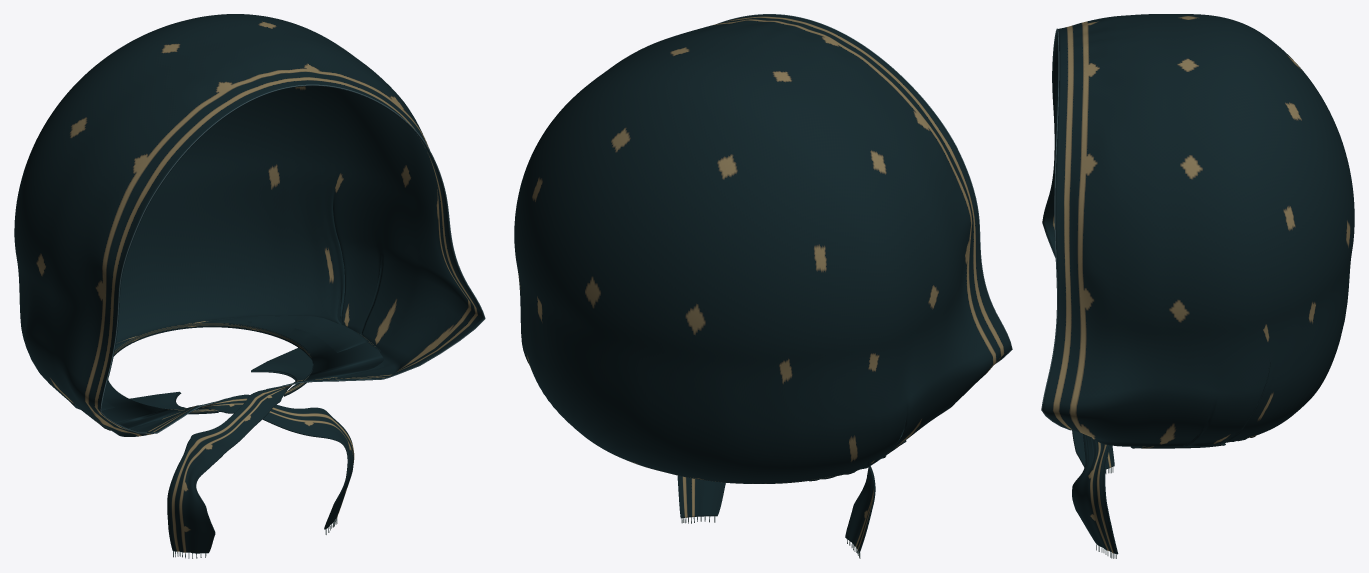
File: Feminine-straight-open-pashmina250-headgear.glb
3 views of the same model, side by side, from view 1: azimuth 30°, elevation 25°; view 2: azimuth 150°, elevation 25°; view 3: azimuth 270°, elevation 25° (orthographic). The views are drawn at different scales.
Parts seen in each view (by area): view 1: 226 headgear / Headwear / continuous woven pashmina239, 226 headgear / Headwear / face edge239; view 2: 226 headgear / Headwear / continuous woven pashmina239, 226 headgear / Headwear / face edge239; view 3: 226 headgear / Headwear / continuous woven pashmina239, 226 headgear / Headwear / face edge239.
Part boxes in pixels (x1,y1,x2,y2): 226 headgear / Headwear / continuous woven pashmina239: (14, 14, 484, 553); 226 headgear / Headwear / face edge239: (100, 84, 485, 433); 226 headgear / Headwear / continuous woven pashmina239: (514, 14, 1011, 552); 226 headgear / Headwear / face edge239: (717, 14, 1012, 363); 226 headgear / Headwear / continuous woven pashmina239: (1042, 14, 1354, 554); 226 headgear / Headwear / face edge239: (1041, 28, 1072, 430).
Bounding box in the file's own units: 1.16 × 1.39 × 0.8127.
Materials: 3 (1 with a texture image).
